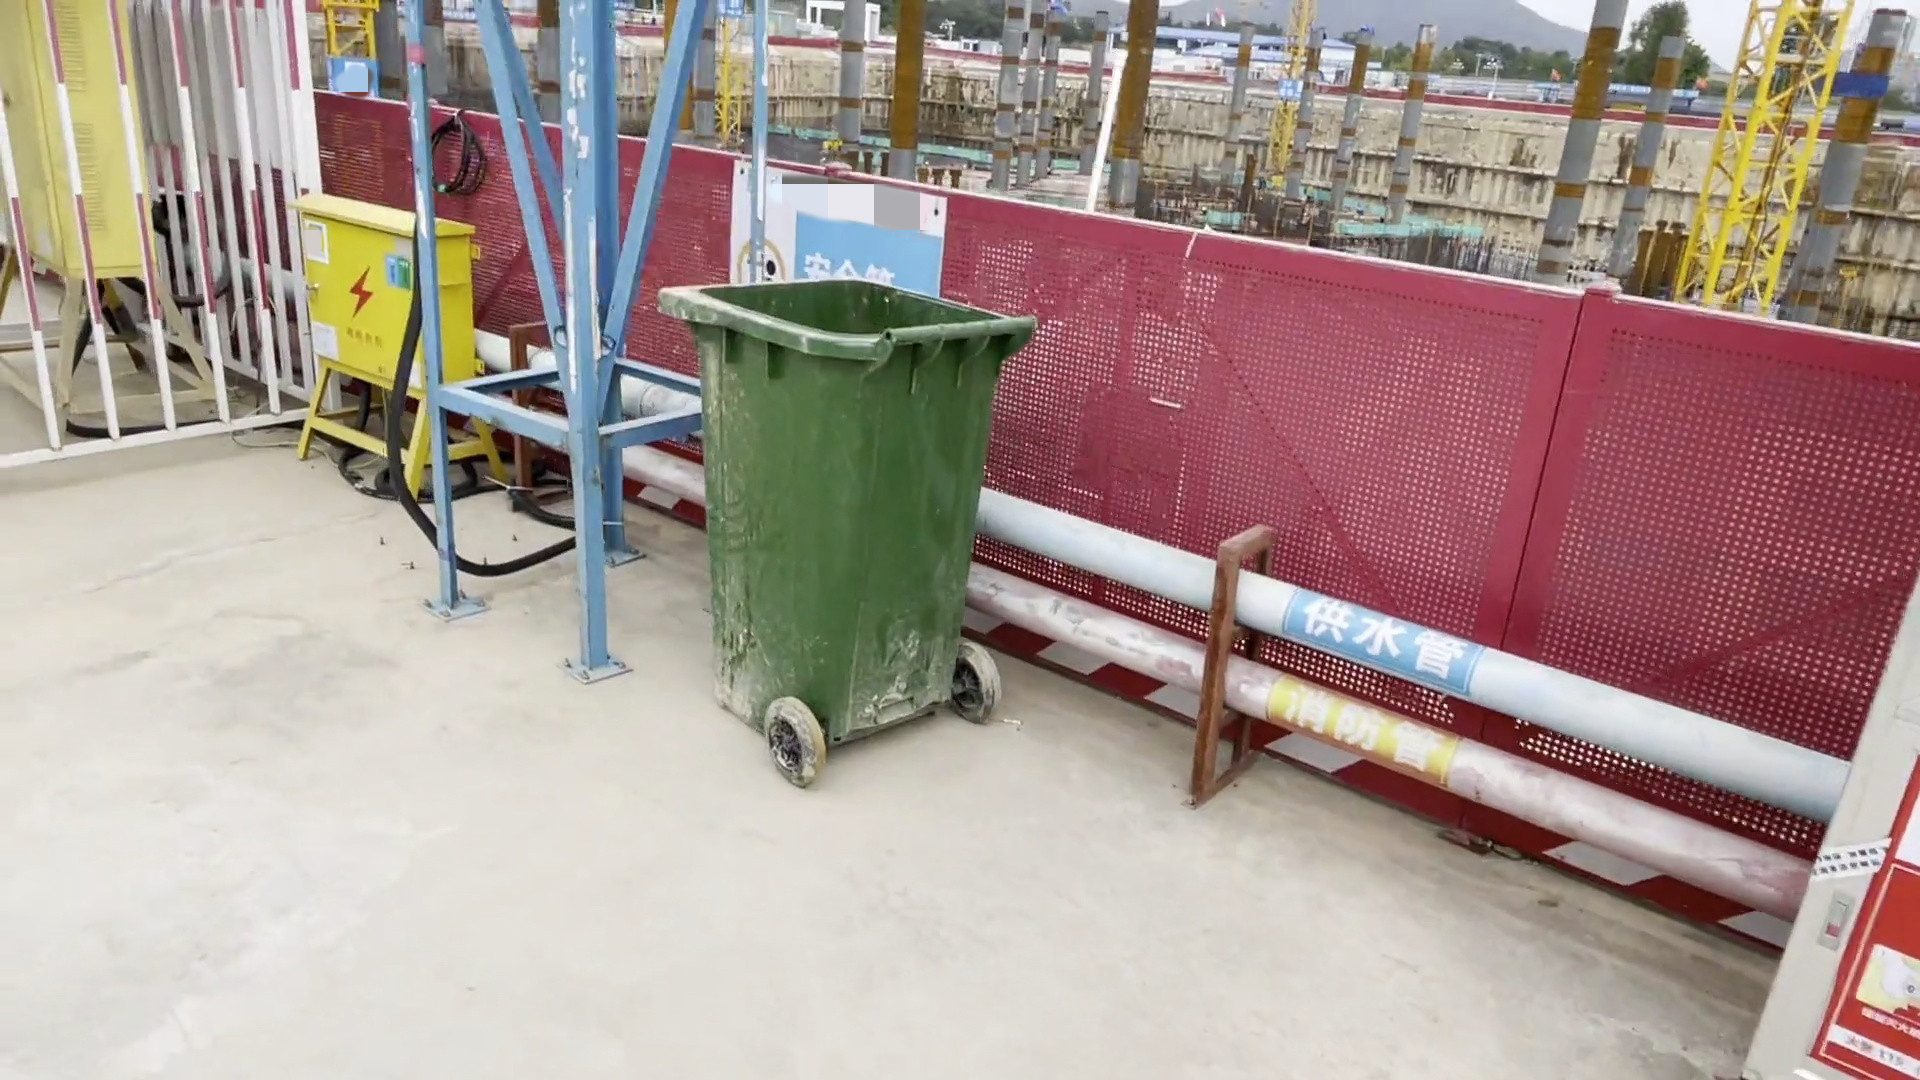ebox: (287, 181, 496, 493)
